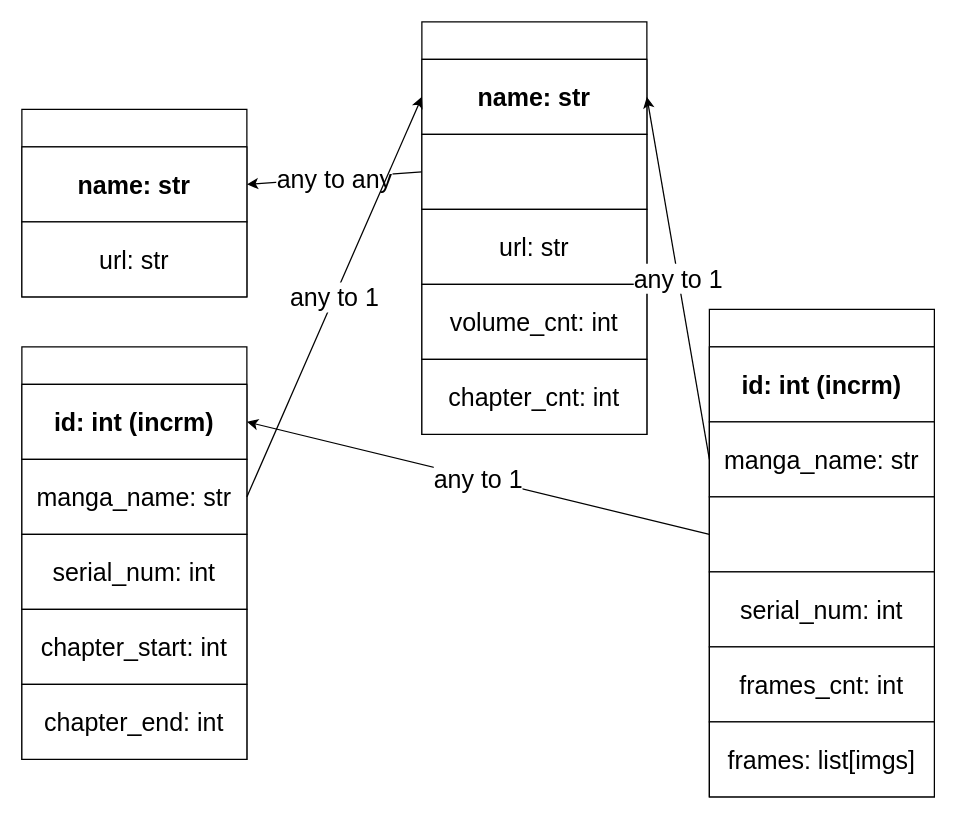
The diagram is 956 pixels wide and 819 high, and some of its shapes have lost their labels. Each missing label, with the box of its shape:
Chapter: (708, 308, 934, 797)
Manga: (421, 21, 647, 434)
MangaSource: (21, 108, 247, 297)
source: str: (421, 133, 647, 209)
Volume: (21, 346, 247, 759)
volume_id: int: (708, 496, 934, 572)
